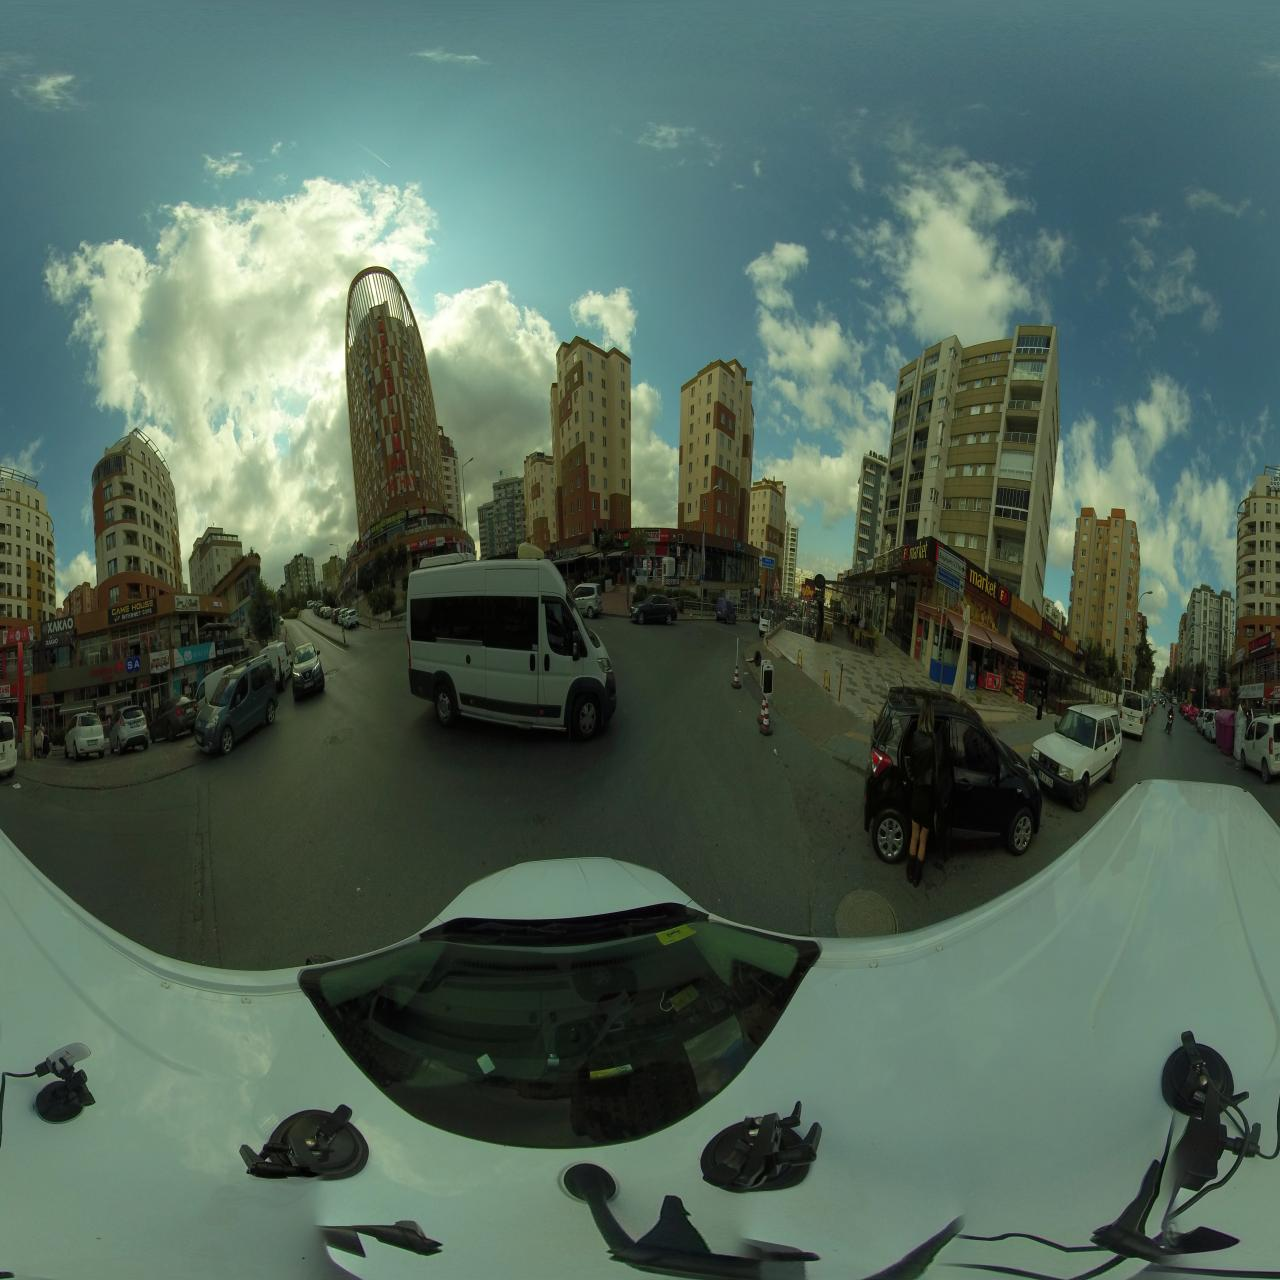SignStore: (968, 560, 1012, 611), (87, 654, 142, 686), (108, 595, 158, 625), (173, 642, 216, 668), (41, 614, 74, 642), (874, 545, 903, 574), (1042, 617, 1065, 645), (904, 537, 930, 561), (2, 626, 33, 646), (216, 638, 244, 658), (1248, 633, 1271, 658), (175, 595, 200, 611), (386, 510, 404, 529), (1241, 682, 1264, 697), (356, 529, 370, 550), (370, 518, 386, 537), (648, 529, 668, 542), (559, 545, 578, 558), (413, 539, 431, 551), (733, 540, 748, 554), (0, 682, 11, 697), (865, 557, 874, 572), (1268, 686, 1279, 697), (1076, 645, 1085, 658), (212, 600, 223, 610), (343, 574, 350, 588), (445, 537, 459, 543), (857, 563, 864, 574), (436, 537, 443, 547), (1210, 689, 1216, 696), (852, 565, 856, 574)
